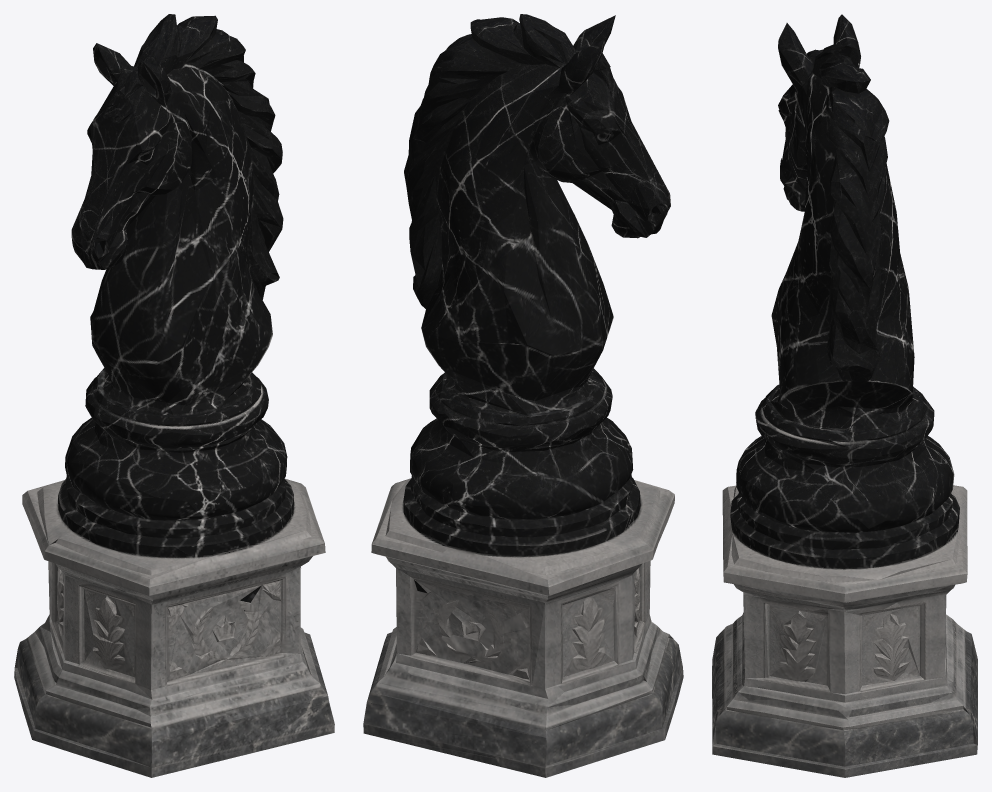
Rendered from moat-knight.glb.
The picture shows the model from 3 angles, left to right: view 1: azimuth 30°, elevation 25°; view 2: azimuth 150°, elevation 25°; view 3: azimuth 270°, elevation 25°; orthographic projection. The views are drawn at different scales.
Visible parts, largest first — view 1: output_unwrapped; view 2: output_unwrapped; view 3: output_unwrapped.
Boxes of the visible parts, left/top/right/bottom form: output_unwrapped: left=14, top=14, right=334, bottom=777; output_unwrapped: left=363, top=14, right=683, bottom=777; output_unwrapped: left=712, top=14, right=977, bottom=777.
Bounding box in the file's own units: 0.8181 × 1.9 × 0.6859.
1 material, 1 textured.
